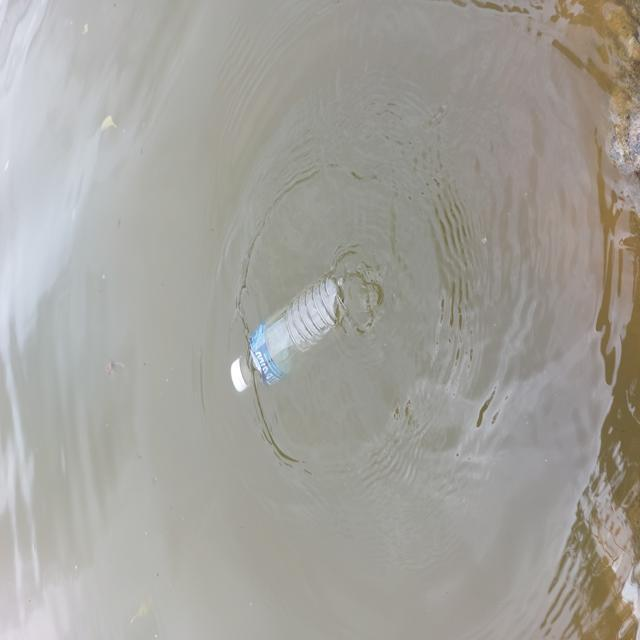waterbottle: (199, 279, 346, 406)
